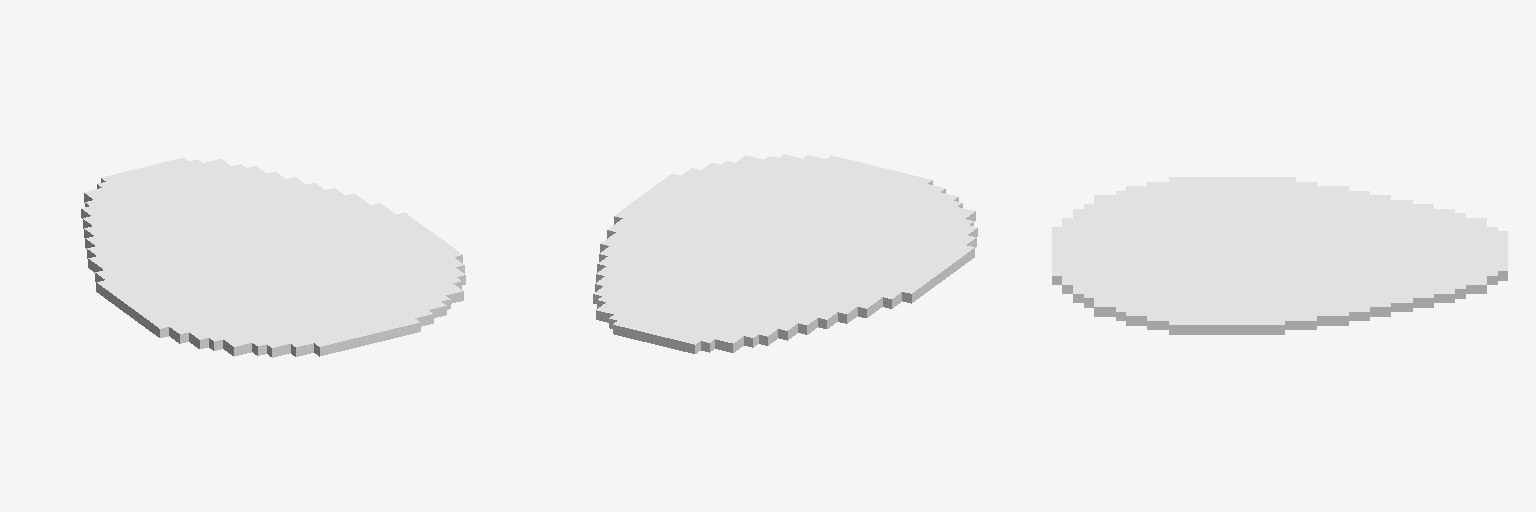
File: Egg.obj
3 views of the same model, side by side, from view 1: azimuth 30°, elevation 25°; view 2: azimuth 150°, elevation 25°; view 3: azimuth 270°, elevation 25° (orthographic).
Size of the model in its own units: 33 by 1 by 43.